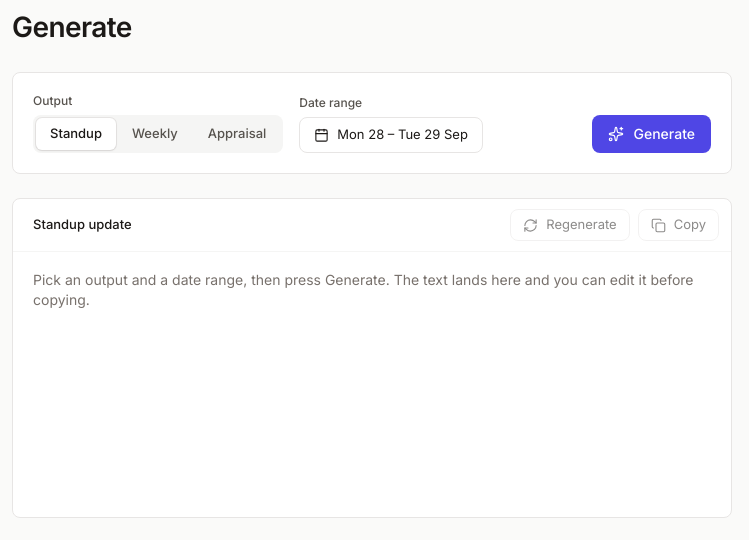
Test: GeneratorPanel › switches type before generating
The width and height of the screenshot is (749, 540).
Click the button "Weekly": x=155, y=134 [118, 118, 192, 150]
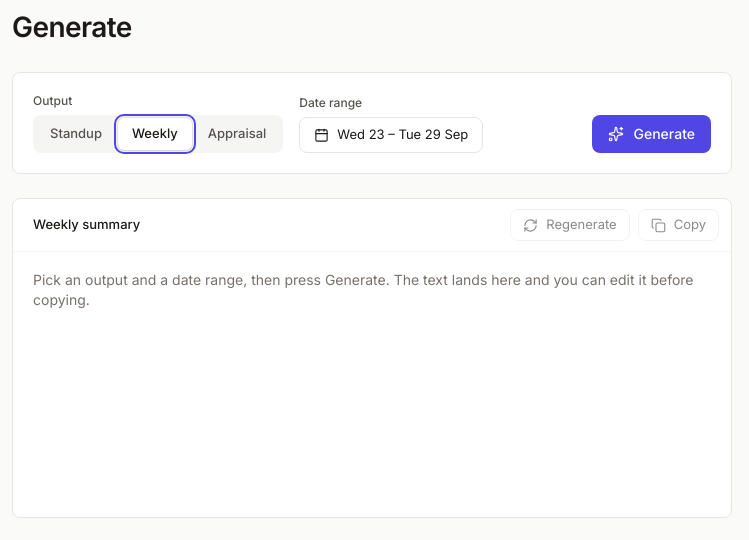
Click the button "Generate": x=651, y=134 [592, 115, 711, 153]
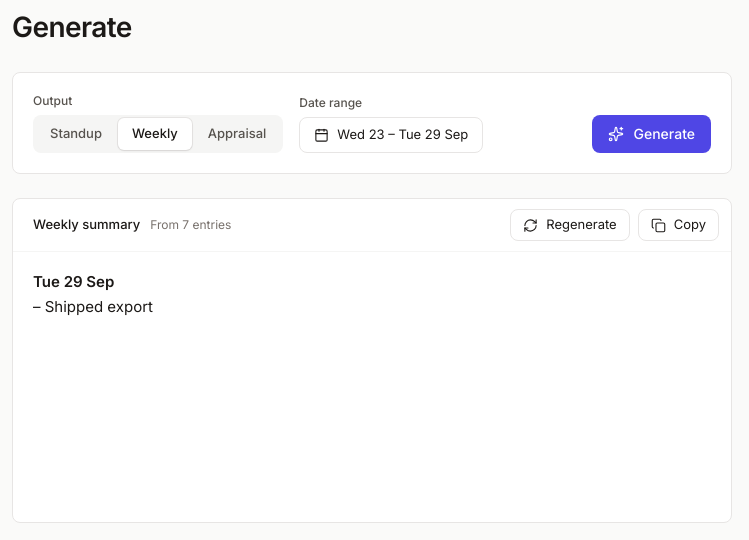
Expected: the field is shown, [33, 272, 153, 316]
